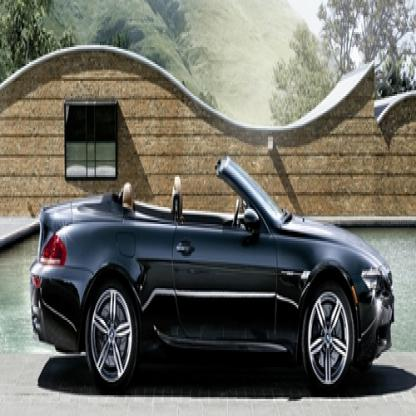car: (23, 122, 408, 414)
